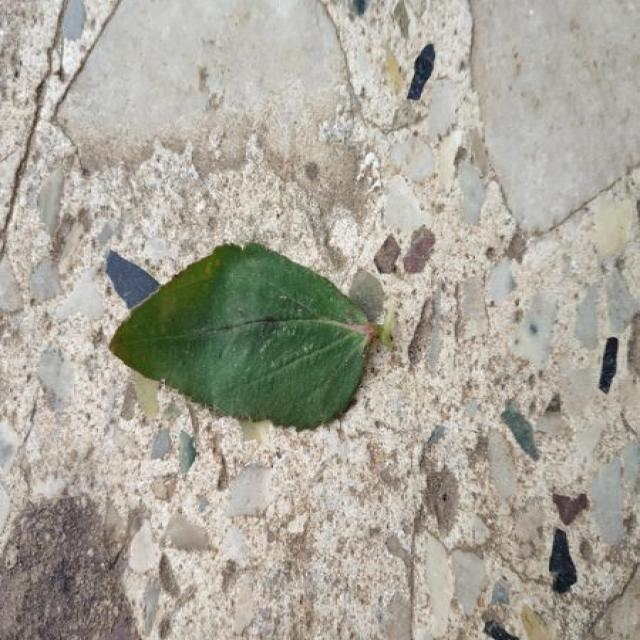Astma_weed: (110, 244, 372, 428)
defectetedAstma_weed: (210, 319, 341, 369)
